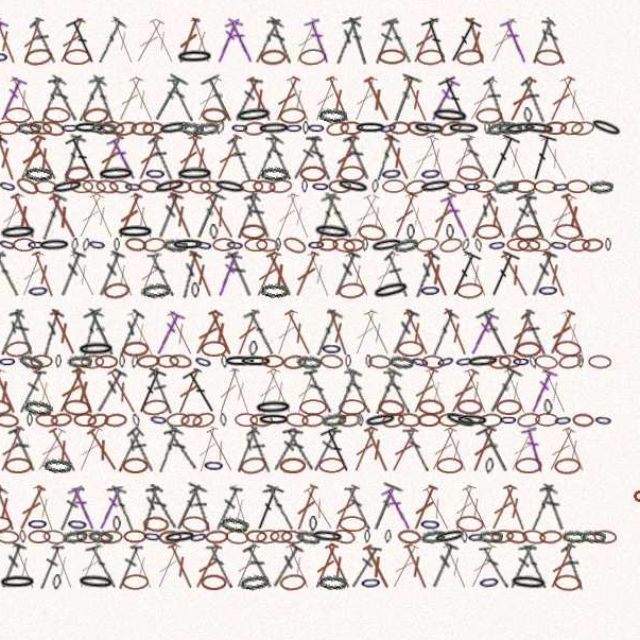chain: (378, 273, 417, 296), (583, 120, 617, 143), (446, 396, 480, 418), (249, 110, 287, 129), (323, 220, 361, 239), (434, 111, 472, 129), (27, 221, 65, 239), (508, 551, 546, 569), (172, 177, 206, 196), (436, 507, 470, 526), (101, 551, 138, 568), (345, 177, 378, 196), (76, 178, 109, 196), (229, 178, 262, 196), (377, 233, 410, 251), (371, 398, 404, 416), (120, 167, 157, 183), (194, 167, 231, 183), (101, 332, 138, 348), (268, 387, 305, 403), (253, 550, 283, 569), (177, 123, 210, 140), (423, 178, 456, 195), (194, 57, 231, 72), (138, 222, 175, 237), (27, 552, 64, 567), (51, 55, 79, 74), (417, 124, 450, 140), (503, 124, 536, 140), (520, 124, 553, 140), (182, 509, 215, 525), (42, 176, 67, 197), (50, 386, 79, 404), (235, 496, 264, 514), (45, 342, 71, 362), (254, 440, 281, 459), (365, 221, 393, 239), (199, 496, 227, 514), (441, 122, 466, 142), (294, 232, 319, 252), (321, 509, 354, 524), (486, 122, 512, 141), (161, 276, 190, 293), (106, 111, 133, 129), (162, 386, 189, 404), (384, 386, 411, 404), (468, 344, 500, 359), (89, 166, 115, 184), (493, 178, 519, 196), (398, 233, 424, 251), (126, 276, 152, 294), (33, 331, 59, 349), (310, 56, 337, 73), (69, 111, 96, 128), (458, 496, 485, 513), (209, 397, 233, 416), (271, 125, 303, 139), (450, 125, 482, 139), (64, 235, 96, 249), (458, 400, 490, 414), (459, 166, 485, 183), (551, 221, 577, 238), (551, 331, 577, 348), (422, 386, 448, 403), (424, 508, 450, 525), (292, 551, 318, 568), (67, 123, 91, 141), (135, 123, 159, 141), (411, 123, 435, 141), (409, 178, 433, 196), (447, 178, 471, 196), (442, 233, 466, 251), (347, 277, 374, 293), (88, 387, 115, 403), (14, 497, 41, 513), (331, 398, 356, 415), (87, 508, 112, 525), (328, 112, 356, 127), (51, 167, 79, 182), (273, 167, 301, 182), (273, 277, 301, 292), (69, 442, 97, 457), (328, 552, 356, 567), (422, 57, 448, 73), (459, 57, 485, 73), (533, 57, 559, 73), (218, 112, 244, 128), (97, 125, 129, 138), (362, 125, 394, 138), (190, 235, 222, 248), (239, 345, 271, 358), (254, 345, 286, 358), (271, 400, 303, 413), (163, 497, 189, 513), (551, 552, 577, 568), (110, 398, 133, 416), (55, 123, 79, 140), (420, 233, 444, 250), (187, 343, 211, 360), (554, 343, 578, 360), (515, 398, 539, 415), (341, 508, 365, 525), (274, 57, 299, 73), (292, 112, 317, 128), (477, 112, 502, 128), (211, 124, 236, 140), (514, 222, 539, 238), (459, 277, 484, 293), (144, 332, 169, 348), (514, 332, 539, 348), (15, 387, 40, 403), (459, 386, 484, 402), (551, 442, 576, 458), (307, 509, 332, 525), (89, 57, 115, 72), (385, 57, 411, 72), (33, 112, 59, 127), (311, 387, 337, 402), (348, 387, 374, 402), (33, 442, 59, 457), (514, 442, 540, 457), (348, 497, 374, 512), (335, 124, 359, 140), (566, 124, 590, 140), (118, 179, 142, 195), (341, 234, 365, 250), (520, 509, 544, 525), (210, 343, 231, 361), (311, 167, 336, 182), (348, 167, 373, 182), (255, 222, 280, 237), (477, 222, 502, 237), (218, 332, 243, 347), (403, 332, 428, 347), (496, 387, 521, 402), (144, 442, 169, 457), (292, 442, 317, 457), (329, 442, 354, 457), (440, 442, 465, 457), (111, 509, 136, 524), (144, 552, 169, 567), (218, 552, 243, 567), (387, 166, 409, 183), (424, 166, 446, 183), (479, 551, 501, 568), (106, 179, 129, 195), (131, 179, 154, 195), (532, 344, 555, 360), (347, 399, 370, 415), (388, 399, 411, 415), (69, 509, 92, 525), (241, 509, 264, 525), (54, 277, 76, 293), (91, 497, 113, 513), (505, 509, 527, 525), (124, 124, 147, 139), (556, 124, 579, 139), (159, 179, 182, 194), (282, 179, 305, 194), (163, 234, 186, 249), (526, 234, 549, 249), (157, 344, 180, 359), (330, 344, 353, 359), (498, 344, 521, 359), (185, 399, 208, 414), (297, 399, 320, 414), (403, 399, 426, 414), (270, 509, 293, 524), (403, 509, 426, 524), (491, 509, 514, 524), (385, 123, 405, 140), (26, 178, 46, 195), (26, 233, 46, 250), (439, 343, 459, 360), (197, 125, 221, 139), (583, 180, 607, 194), (182, 235, 206, 249), (308, 345, 332, 359), (395, 345, 419, 359), (424, 497, 445, 513), (368, 552, 389, 568), (146, 234, 168, 249), (76, 399, 98, 414), (563, 235, 586, 249), (295, 345, 318, 359), (24, 400, 47, 414), (293, 510, 316, 524), (211, 234, 231, 250), (415, 344, 435, 360), (206, 509, 226, 525), (17, 57, 38, 72), (165, 167, 186, 182), (424, 277, 445, 292), (535, 277, 556, 292), (331, 332, 352, 347), (220, 442, 241, 457), (54, 497, 75, 512), (44, 125, 68, 138), (114, 125, 138, 138), (497, 125, 521, 138), (92, 345, 116, 358), (479, 510, 503, 523), (558, 510, 582, 523), (576, 510, 600, 523), (152, 125, 174, 139), (258, 125, 280, 139), (61, 180, 83, 194), (188, 180, 210, 194), (206, 180, 228, 194), (217, 180, 239, 194), (267, 180, 289, 194), (532, 180, 554, 194), (270, 235, 292, 249), (516, 235, 538, 249), (105, 345, 127, 359), (376, 345, 398, 359), (426, 345, 448, 359), (489, 345, 511, 359), (583, 345, 605, 359), (62, 400, 84, 414), (127, 400, 149, 414), (264, 400, 286, 414), (313, 400, 335, 414), (480, 400, 502, 414), (25, 510, 47, 524), (123, 510, 145, 524), (178, 510, 200, 524), (222, 510, 244, 524), (537, 510, 559, 524), (588, 510, 610, 524), (163, 125, 184, 139), (352, 235, 373, 249), (577, 235, 598, 249), (199, 400, 220, 414), (568, 400, 589, 414), (25, 125, 47, 138), (349, 125, 371, 138), (541, 125, 563, 138), (95, 180, 117, 193), (255, 180, 277, 193), (338, 180, 360, 193), (389, 180, 411, 193), (475, 180, 497, 193), (512, 180, 534, 193), (562, 180, 584, 193), (41, 235, 63, 248), (229, 235, 251, 248), (259, 235, 281, 248), (506, 235, 528, 248), (57, 345, 79, 358), (118, 345, 140, 358), (176, 345, 198, 358), (275, 345, 297, 358), (98, 400, 120, 413), (250, 400, 272, 413), (422, 400, 444, 413), (442, 400, 464, 413), (533, 400, 555, 413), (55, 510, 77, 523), (101, 510, 123, 523), (145, 510, 167, 523), (283, 510, 305, 523), (111, 234, 130, 249), (457, 344, 476, 359), (169, 399, 188, 414), (163, 509, 182, 524), (395, 125, 416, 138), (327, 235, 348, 248), (260, 510, 281, 523), (145, 180, 164, 194), (548, 180, 567, 194), (241, 235, 260, 249), (488, 235, 507, 249), (546, 235, 565, 249), (550, 400, 569, 414), (588, 400, 607, 414), (469, 510, 487, 524), (86, 125, 104, 138), (246, 125, 264, 138), (297, 125, 315, 138), (318, 125, 336, 138), (322, 180, 340, 193), (465, 180, 483, 193), (54, 235, 72, 248), (318, 235, 336, 248), (27, 345, 45, 358), (511, 345, 529, 358), (499, 400, 517, 413), (485, 442, 495, 458), (522, 112, 531, 127), (226, 222, 235, 237), (263, 332, 272, 347), (541, 387, 550, 402), (78, 552, 87, 567), (232, 125, 241, 139), (463, 235, 472, 249), (527, 345, 536, 359), (153, 400, 162, 414), (412, 222, 420, 237), (449, 222, 457, 237), (209, 277, 217, 292), (135, 497, 143, 512), (320, 497, 328, 512), (106, 235, 114, 249), (476, 235, 484, 249), (152, 345, 160, 359), (379, 180, 386, 193), (96, 235, 103, 248), (237, 345, 244, 358), (373, 345, 380, 358), (236, 400, 243, 413), (365, 400, 372, 413), (47, 510, 54, 523), (391, 510, 398, 523), (463, 510, 470, 523), (314, 125, 320, 138), (485, 125, 491, 138), (313, 180, 319, 193), (136, 235, 142, 248), (288, 235, 294, 248), (370, 235, 376, 248), (599, 235, 605, 248), (81, 345, 87, 358), (141, 345, 147, 358), (354, 345, 360, 358), (573, 345, 579, 358), (54, 400, 60, 413), (372, 510, 378, 523)
double: (168, 80, 207, 129), (477, 300, 515, 349), (484, 355, 522, 404), (477, 410, 515, 459), (200, 356, 238, 404), (218, 80, 255, 129), (107, 300, 144, 349), (188, 465, 225, 514), (447, 26, 484, 74), (89, 136, 126, 184), (207, 190, 243, 239), (448, 246, 484, 294), (515, 190, 550, 239), (374, 465, 409, 514), (90, 26, 125, 74), (441, 81, 476, 129), (485, 136, 520, 184), (485, 246, 520, 294), (330, 411, 365, 459), (393, 80, 427, 129), (108, 412, 144, 458), (312, 467, 348, 513), (115, 26, 150, 73), (263, 26, 298, 73), (330, 191, 365, 238), (153, 356, 187, 404), (264, 466, 298, 514), (152, 27, 187, 73), (466, 82, 501, 128), (115, 357, 150, 403), (127, 357, 162, 403), (59, 412, 94, 458), (281, 522, 316, 568), (387, 26, 421, 73), (97, 81, 131, 128), (264, 136, 298, 183), (17, 246, 51, 293), (257, 301, 291, 348), (319, 301, 353, 348), (375, 356, 409, 403), (276, 466, 310, 513), (109, 521, 143, 568), (54, 137, 88, 183), (128, 137, 162, 183), (412, 137, 446, 183), (535, 137, 569, 183), (72, 192, 106, 238), (220, 192, 254, 238), (356, 192, 390, 238), (541, 192, 575, 238), (498, 247, 532, 293), (208, 302, 242, 348), (449, 357, 483, 403), (72, 412, 106, 458), (220, 412, 254, 458), (387, 467, 421, 513), (424, 467, 458, 513), (257, 522, 291, 568), (393, 522, 427, 568), (5, 26, 38, 73), (486, 26, 519, 73), (35, 81, 68, 128), (91, 246, 124, 293), (294, 301, 327, 348), (430, 301, 463, 348), (79, 356, 112, 403), (430, 411, 463, 458), (5, 466, 38, 513), (461, 466, 494, 513), (523, 466, 556, 513), (467, 521, 500, 568), (351, 26, 383, 74), (425, 26, 457, 74), (61, 191, 93, 239), (339, 356, 371, 404), (183, 412, 217, 457), (430, 82, 463, 128), (504, 82, 537, 128), (368, 192, 401, 238), (146, 302, 179, 348), (171, 302, 204, 348), (183, 302, 216, 348), (467, 302, 500, 348), (393, 412, 426, 458), (541, 412, 574, 458), (42, 467, 75, 513), (208, 522, 241, 568), (368, 522, 401, 568), (80, 26, 112, 73), (166, 26, 198, 73), (240, 26, 272, 73), (413, 26, 445, 73), (61, 81, 93, 128), (135, 81, 167, 128), (147, 81, 179, 128), (209, 81, 241, 128), (258, 81, 290, 128), (283, 81, 315, 128), (369, 81, 401, 128), (542, 81, 574, 128), (554, 81, 586, 128), (43, 136, 75, 183), (117, 136, 149, 183), (228, 136, 260, 183), (339, 136, 371, 183), (351, 136, 383, 183), (388, 136, 420, 183), (98, 191, 130, 238), (443, 191, 475, 238), (240, 246, 272, 293), (265, 246, 297, 293), (277, 246, 309, 293), (376, 246, 408, 293), (73, 301, 105, 348), (369, 301, 401, 348), (406, 301, 438, 348), (542, 301, 574, 348), (277, 356, 309, 403), (413, 356, 445, 403), (536, 356, 568, 403), (36, 411, 68, 458), (505, 411, 537, 458), (117, 466, 149, 513), (339, 466, 371, 513), (487, 466, 519, 513), (184, 521, 216, 568), (332, 521, 364, 568), (517, 521, 549, 568), (542, 521, 574, 568), (524, 136, 555, 184), (228, 26, 259, 73), (302, 26, 333, 73), (499, 26, 530, 73), (24, 81, 55, 128), (295, 81, 326, 128), (320, 81, 351, 128), (357, 81, 388, 128), (406, 81, 437, 128), (154, 136, 185, 183), (191, 136, 222, 183), (499, 136, 530, 183), (36, 191, 67, 238), (110, 191, 141, 238), (135, 191, 166, 238), (184, 191, 215, 238), (258, 191, 289, 238), (117, 246, 148, 293), (129, 246, 160, 293), (302, 246, 333, 293), (339, 246, 370, 293), (351, 246, 382, 293), (425, 246, 456, 293), (394, 301, 425, 348), (554, 301, 585, 348), (6, 356, 37, 403), (18, 356, 49, 403), (191, 356, 222, 403), (524, 356, 555, 403), (24, 411, 55, 458), (98, 411, 129, 458), (172, 411, 203, 458), (357, 411, 388, 458), (369, 411, 400, 458), (92, 466, 123, 513), (129, 466, 160, 513), (413, 466, 444, 513), (98, 521, 129, 568), (172, 521, 203, 568), (246, 521, 277, 568), (295, 521, 326, 568), (320, 521, 351, 568), (406, 521, 437, 568), (431, 521, 462, 568), (443, 521, 474, 568), (111, 81, 141, 129), (81, 136, 111, 184), (321, 191, 351, 239), (283, 412, 315, 457), (295, 412, 327, 457), (166, 467, 198, 512), (339, 27, 370, 73), (6, 137, 37, 183), (135, 302, 166, 348), (19, 26, 49, 73), (130, 26, 160, 73), (333, 81, 363, 128), (204, 136, 234, 183), (377, 136, 407, 183), (25, 191, 55, 238), (148, 191, 178, 238), (173, 191, 203, 238), (284, 191, 314, 238), (296, 191, 326, 238), (395, 191, 425, 238), (407, 191, 437, 238), (432, 191, 462, 238), (481, 191, 511, 238), (555, 191, 585, 238), (44, 246, 74, 293), (81, 246, 111, 293), (155, 246, 185, 293), (204, 246, 234, 293), (315, 246, 345, 293), (463, 246, 493, 293), (525, 246, 555, 293), (537, 246, 567, 293), (222, 301, 252, 348), (247, 301, 277, 348), (358, 301, 388, 348), (444, 301, 474, 348), (506, 301, 536, 348), (56, 356, 86, 403), (266, 356, 296, 403), (463, 356, 493, 403), (500, 356, 530, 403), (444, 411, 474, 458), (469, 411, 499, 458), (555, 411, 585, 458), (25, 521, 55, 568), (37, 521, 67, 568), (148, 521, 178, 568), (357, 523, 389, 567), (55, 27, 86, 72), (302, 137, 333, 182), (147, 412, 178, 457), (74, 82, 104, 128), (414, 247, 444, 293), (480, 523, 511, 567), (192, 26, 221, 73), (315, 26, 344, 73), (451, 136, 480, 183), (56, 246, 85, 293), (229, 246, 258, 293), (37, 301, 66, 348), (284, 301, 313, 348), (303, 356, 332, 403), (426, 356, 455, 403), (19, 466, 48, 513), (303, 466, 332, 513), (500, 466, 529, 513), (537, 466, 566, 513), (74, 521, 103, 568), (247, 82, 277, 127), (518, 302, 548, 347), (321, 412, 351, 457), (518, 82, 547, 128), (315, 357, 344, 403), (136, 413, 166, 457), (45, 26, 73, 73), (205, 26, 233, 73), (20, 136, 48, 183), (100, 301, 128, 348), (334, 301, 362, 348), (94, 356, 122, 403), (230, 356, 258, 403), (242, 356, 270, 403), (57, 466, 85, 513), (452, 466, 480, 513), (167, 137, 196, 182), (463, 137, 492, 182), (469, 192, 498, 237), (506, 192, 535, 237), (167, 247, 196, 292), (389, 247, 418, 292), (25, 302, 54, 347), (44, 357, 73, 402), (167, 357, 196, 402), (229, 467, 258, 512), (506, 522, 535, 567), (242, 137, 270, 183), (260, 412, 288, 458), (427, 136, 454, 183), (211, 411, 238, 458), (519, 411, 546, 458), (242, 466, 269, 513), (526, 27, 554, 72), (186, 82, 214, 127), (248, 192, 276, 237), (353, 357, 381, 402), (390, 357, 418, 402), (408, 412, 436, 457), (353, 467, 381, 512), (223, 522, 251, 567), (63, 302, 90, 348), (82, 467, 109, 513), (63, 522, 90, 568), (137, 522, 164, 568), (556, 522, 583, 568), (465, 26, 491, 73), (279, 137, 306, 182), (248, 412, 275, 457), (280, 27, 306, 73), (379, 27, 405, 73), (483, 82, 509, 128), (317, 137, 343, 183), (9, 247, 35, 293), (194, 247, 220, 293), (157, 467, 183, 513), (206, 467, 232, 513), (539, 27, 564, 73)
noise: (0, 337, 15, 347), (625, 472, 637, 484)
